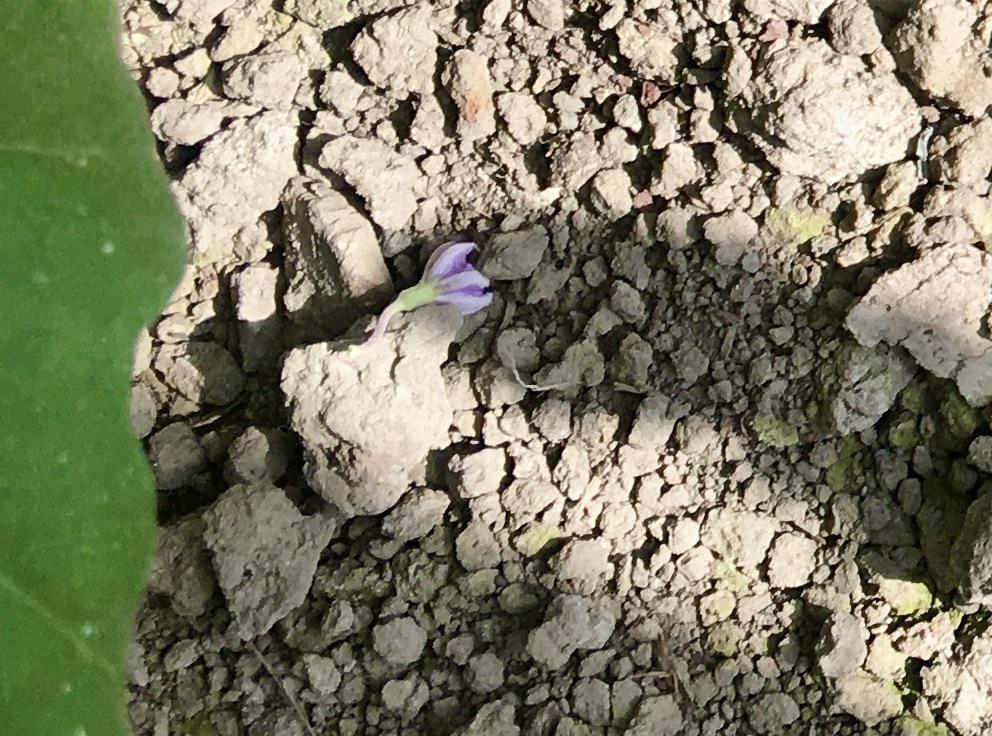block: (267, 304, 469, 517), (750, 42, 924, 184), (190, 486, 330, 634)
